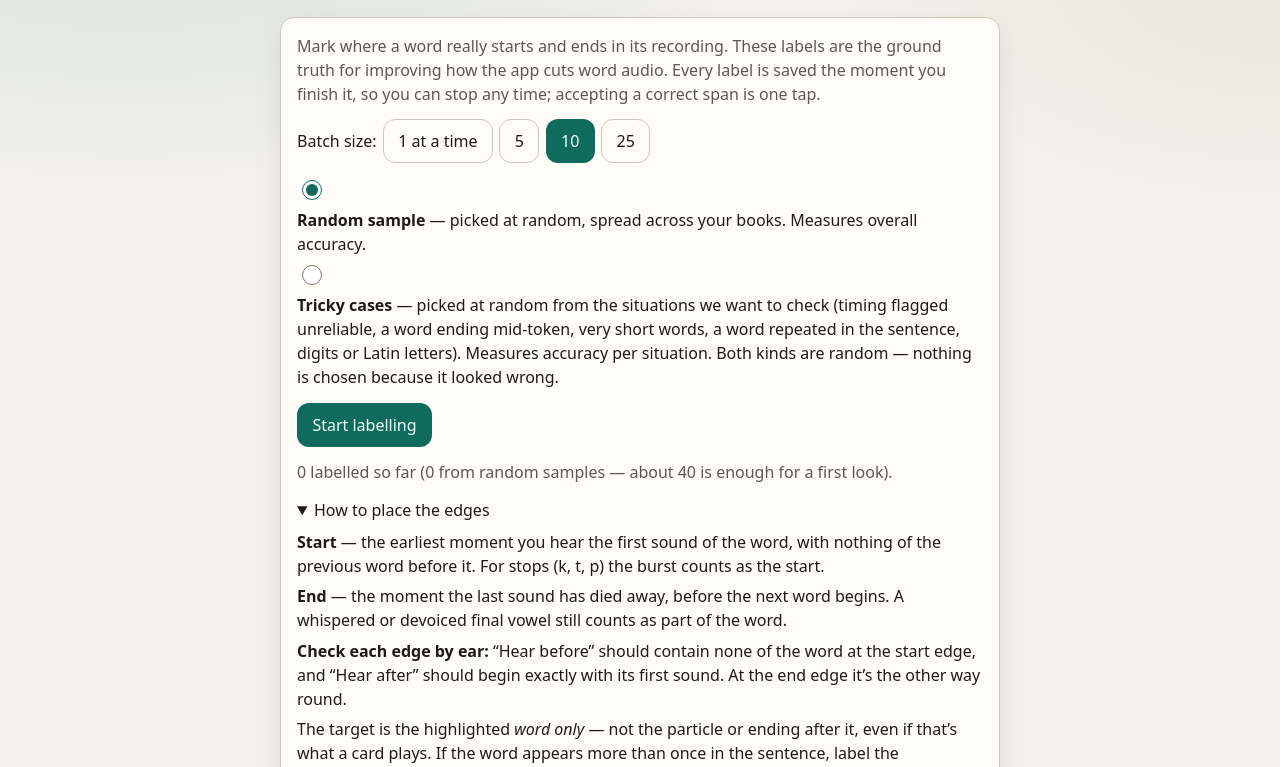
Scenario: LabelWordAudioPage › re-downloads a recording that will not decode locally and carries on
What coordinates should you click on to do the following:
click the button "Start labelling"
I would click on:
 (364, 425)
Its box is [297,403,432,447].
(page scrolled)
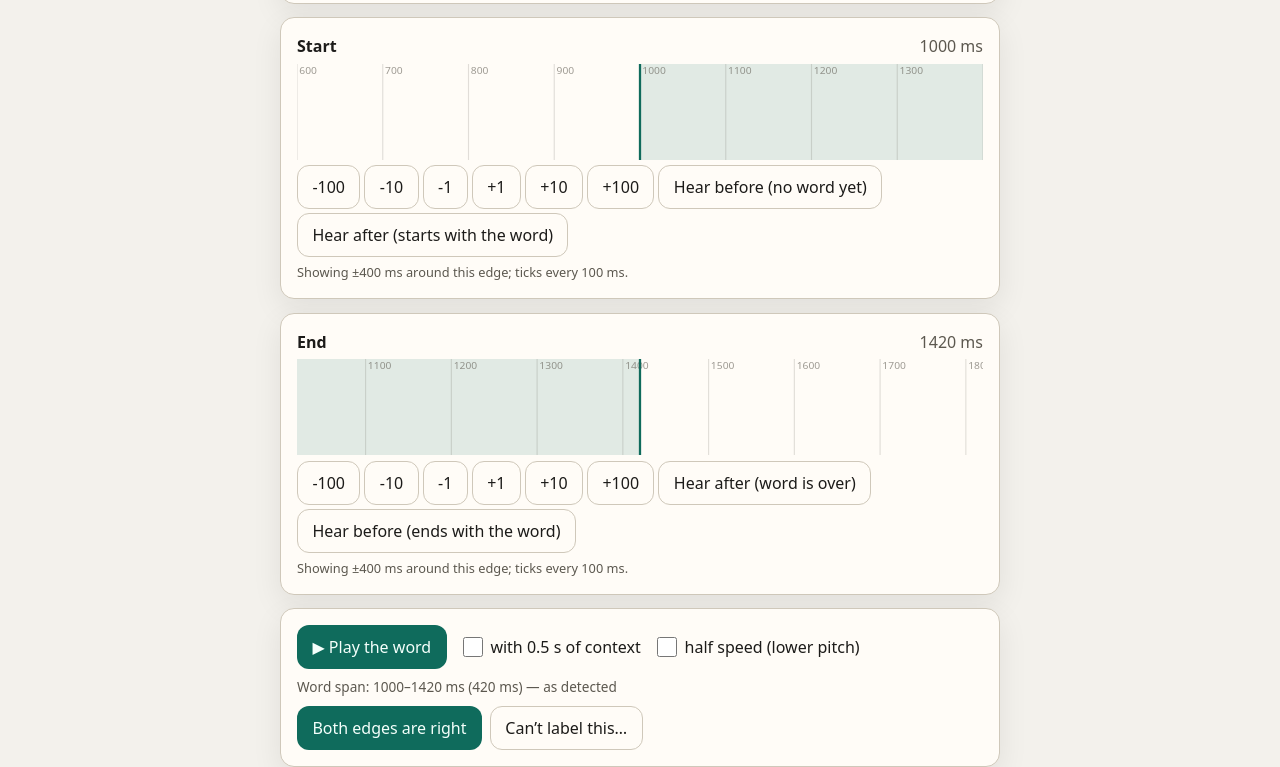
Result: the button "Both edges are right" is shown at [297,706,482,750]
